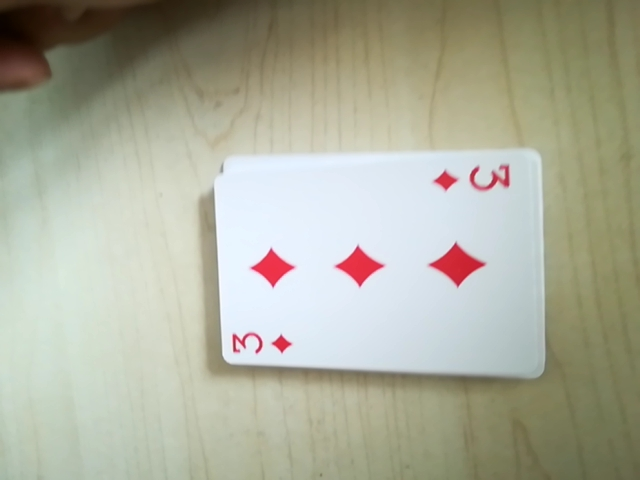fk 3: (429, 153, 519, 204), (225, 322, 296, 362)
